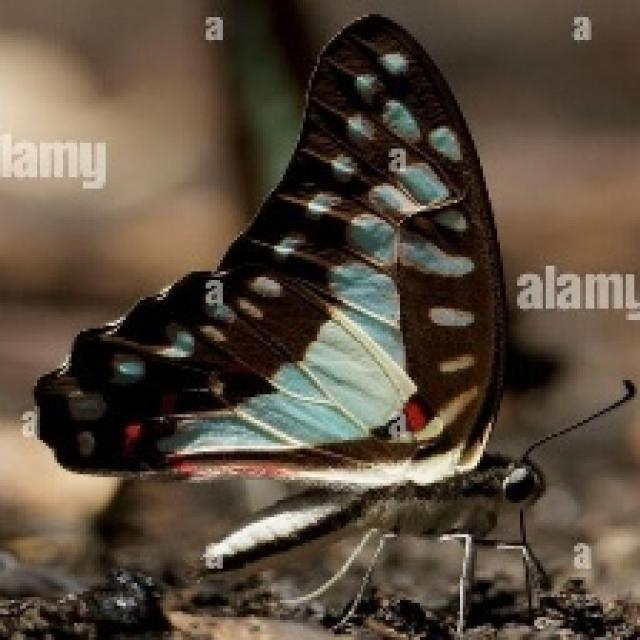butterfly: (20, 9, 637, 637)
